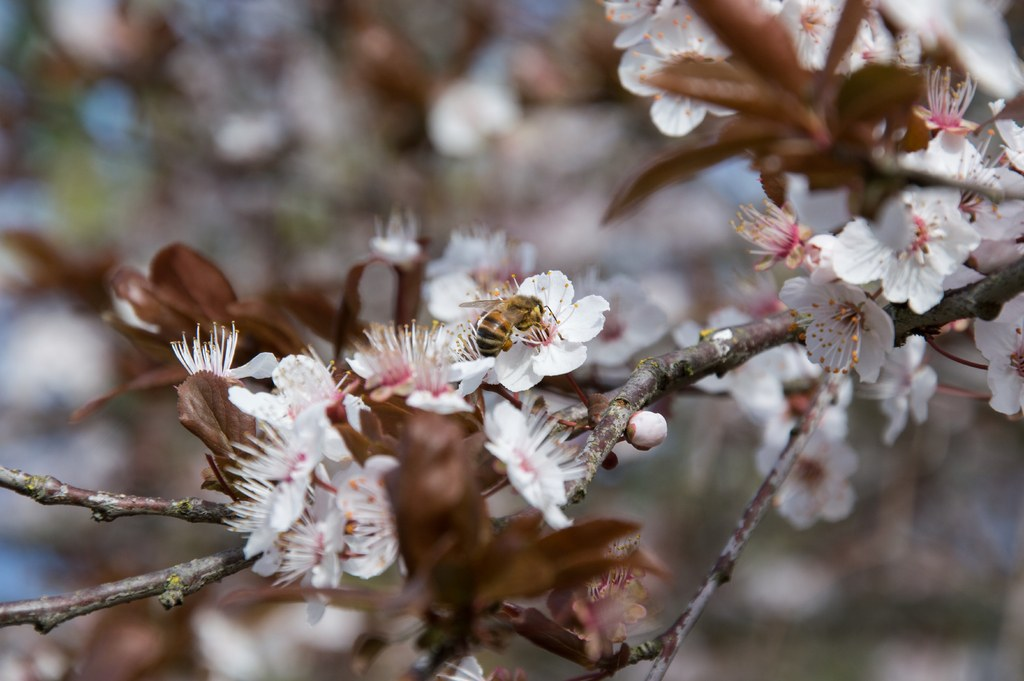bee: (458, 295, 559, 361)
insect: (0, 0, 1023, 675)
